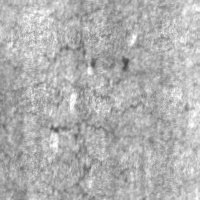crazing: (32, 77, 165, 137), (39, 140, 96, 193), (37, 10, 87, 68)
